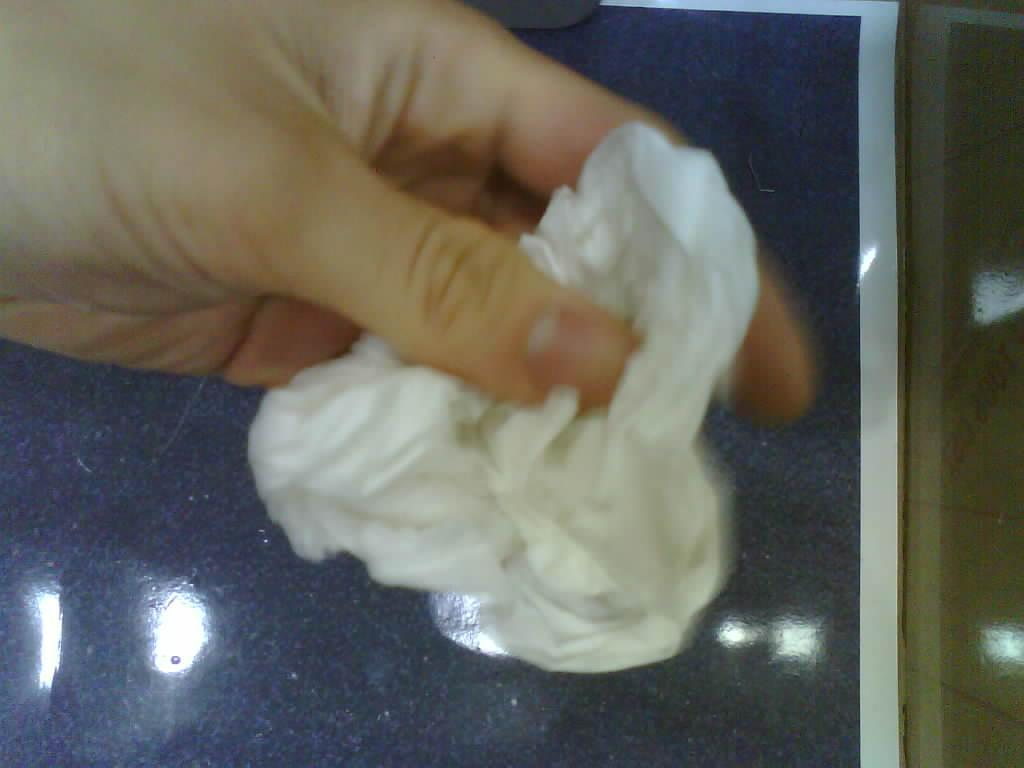paper: (248, 122, 758, 672)
